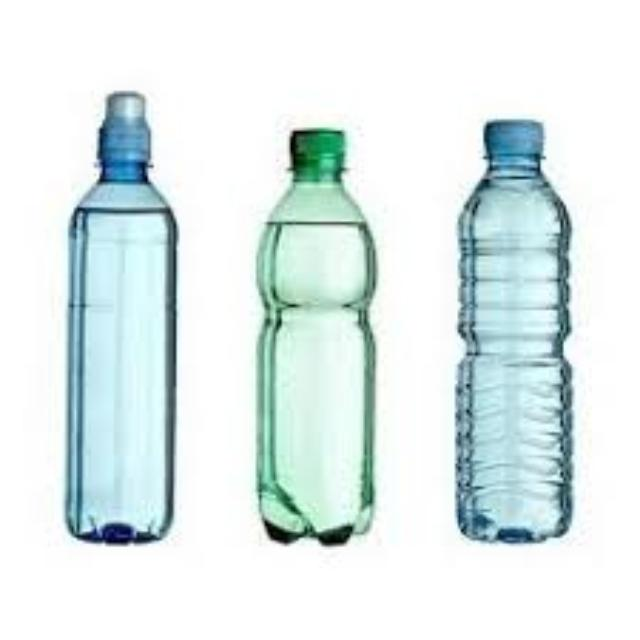plastic: (452, 117, 566, 538), (65, 88, 171, 538), (256, 125, 370, 538)
